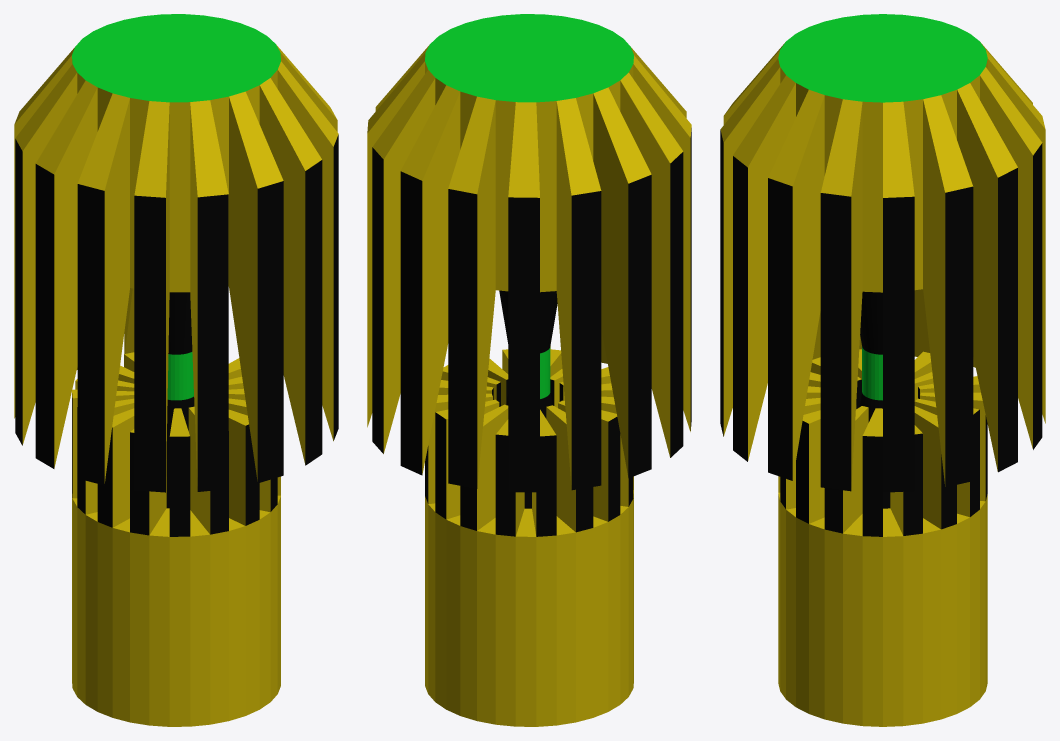
Rendered from Laser door generator.fbx.
3 renders of one model, left to right at view 1: azimuth 30°, elevation 25°; view 2: azimuth 150°, elevation 25°; view 3: azimuth 270°, elevation 25°, orthographic.
Parts seen in each view (by area): view 1: Cylinder; view 2: Cylinder; view 3: Cylinder.
Boxes of the visible parts, box(x1,y1,x2,y2) form: Cylinder: box(14, 14, 338, 726); Cylinder: box(367, 14, 691, 726); Cylinder: box(720, 14, 1045, 726).
Size of the model in its own units: 310 by 657 by 310.
